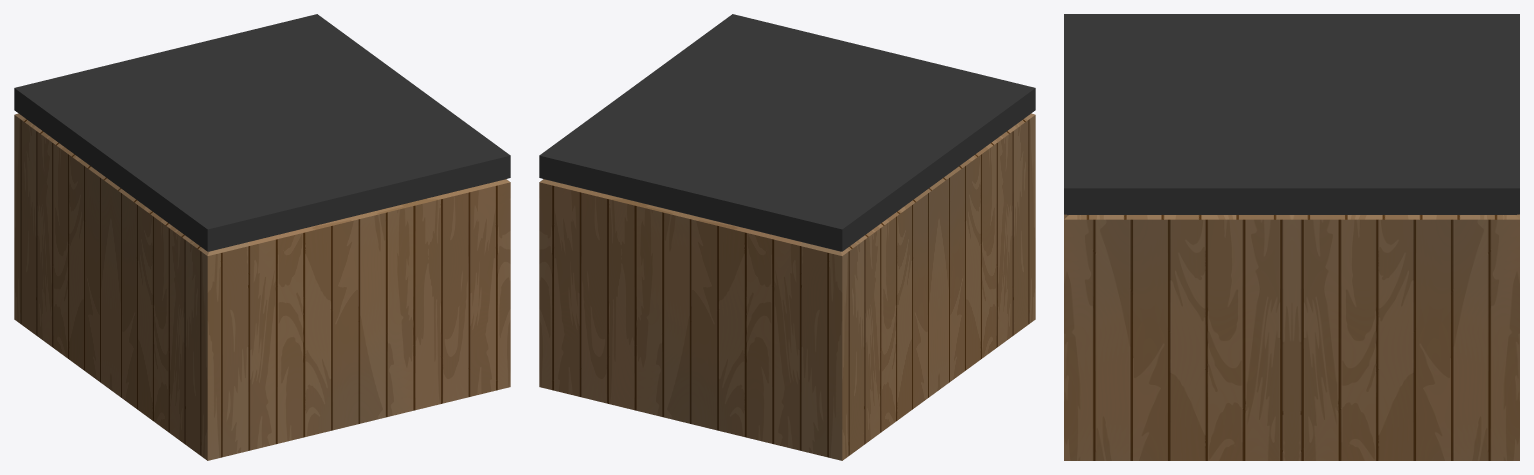
File: SM_wooden_box_02.fbx
The picture shows the model from 3 angles, left to right: view 1: azimuth 30°, elevation 25°; view 2: azimuth 150°, elevation 25°; view 3: azimuth 270°, elevation 25°; orthographic projection. The views are drawn at different scales.
Parts seen in each view (by area): view 1: wooden_box_02; view 2: wooden_box_02; view 3: wooden_box_02.
Part boxes in pixels (<box>): wooden_box_02: <box>14,14,510,460</box>; wooden_box_02: <box>539,14,1035,460</box>; wooden_box_02: <box>1064,14,1519,460</box>.
Size of the model in its own units: 47.89 by 34.96 by 52.94.
